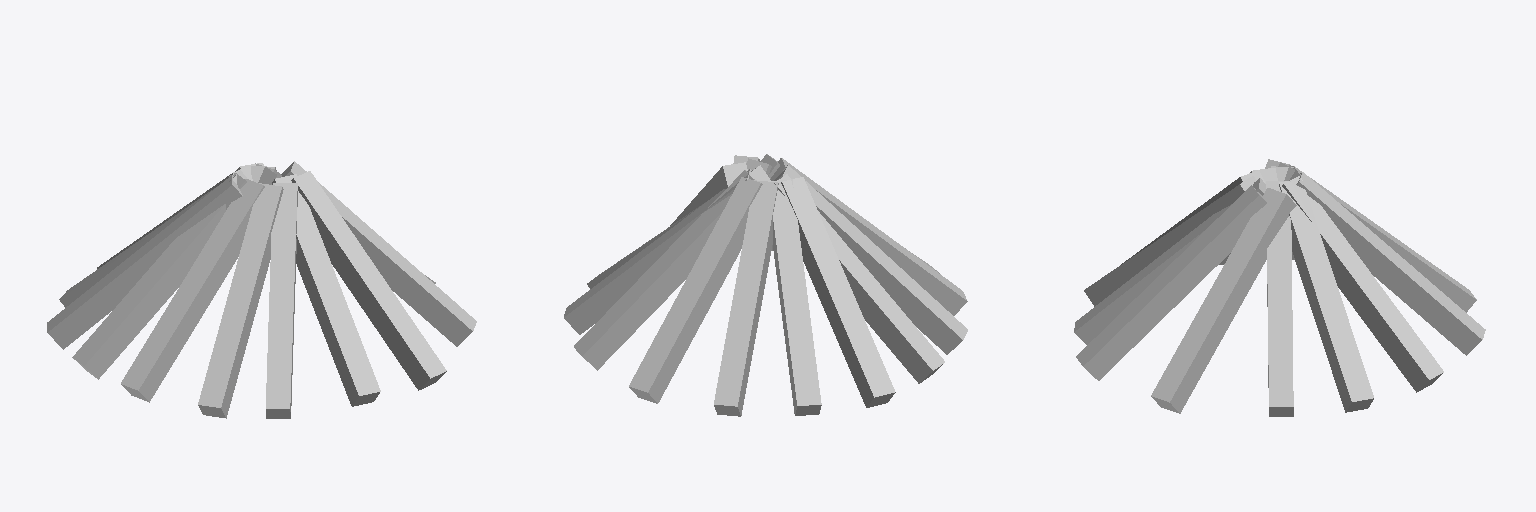
The model's file is cooking_fireplace.obj.
3 views of the same model, side by side, from view 1: azimuth 30°, elevation 25°; view 2: azimuth 150°, elevation 25°; view 3: azimuth 270°, elevation 25° (orthographic).
Visible parts, largest first — view 1: Cube.001_Cube.002; view 2: Cube.001_Cube.002; view 3: Cube.001_Cube.002.
Boxes of the visible parts, x1=… form: Cube.001_Cube.002: x1=47, y1=161, x2=476, y2=418; Cube.001_Cube.002: x1=564, y1=154, x2=967, y2=416; Cube.001_Cube.002: x1=1074, y1=159, x2=1485, y2=416.
Bounding box in the file's own units: 0.818 × 0.3685 × 0.8347.